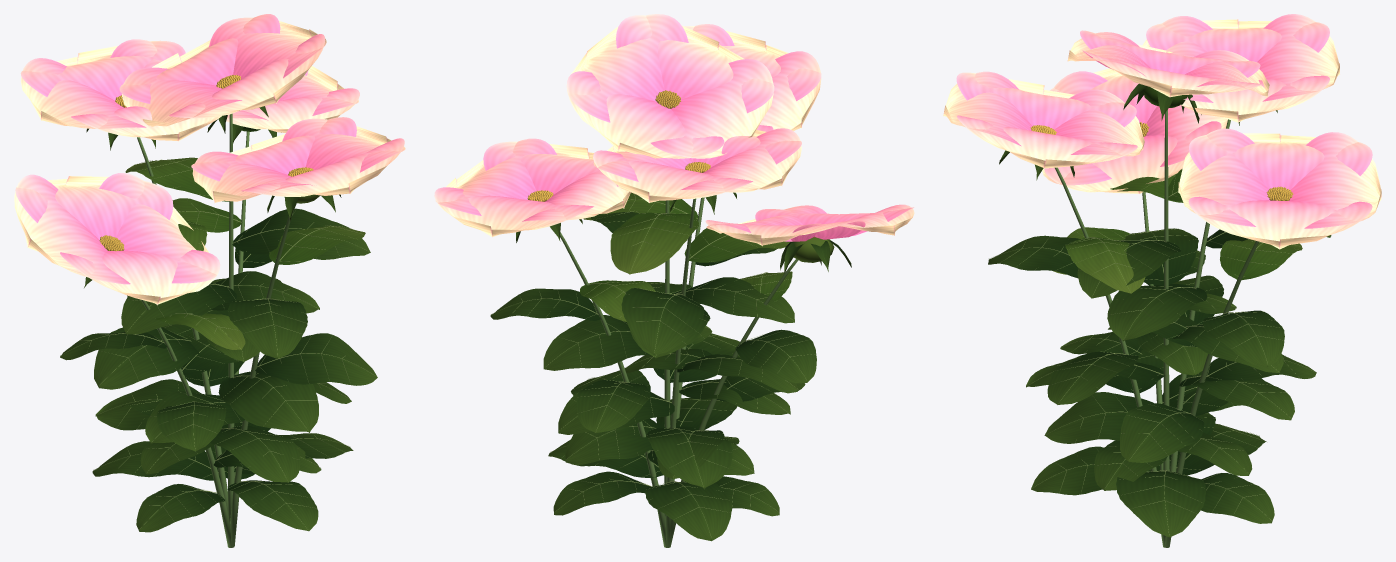
Rendered from poppy-dream-10.glb.
3 views of the same model, side by side, from view 1: azimuth 30°, elevation 25°; view 2: azimuth 150°, elevation 25°; view 3: azimuth 270°, elevation 25° (orthographic). The views are drawn at different scales.
Parts seen in each view (by area): view 1: poppy_dream_stage_10_poppy_petal.020, poppy_dream_stage_10_leaf_veins.020, poppy_dream_stage_10_young_leaf.020, poppy_dream_stage_10_stem_fibres.020, poppy_dream_stage_10_raised_midveins.020, poppy_dream_stage_10_pollen_granules.020; view 2: poppy_dream_stage_10_poppy_petal.020, poppy_dream_stage_10_leaf_veins.020, poppy_dream_stage_10_young_leaf.020, poppy_dream_stage_10_stem_fibres.020, poppy_dream_stage_10_raised_midveins.020, poppy_dream_stage_10_pollen_granules.020; view 3: poppy_dream_stage_10_poppy_petal.020, poppy_dream_stage_10_leaf_veins.020, poppy_dream_stage_10_young_leaf.020, poppy_dream_stage_10_stem_fibres.020, poppy_dream_stage_10_raised_midveins.020, poppy_dream_stage_10_pollen_granules.020.
Boxes of the visible parts, x1,y1,x2,y2 form: poppy_dream_stage_10_poppy_petal.020: (14, 14, 405, 305); poppy_dream_stage_10_leaf_veins.020: (60, 106, 377, 532); poppy_dream_stage_10_young_leaf.020: (125, 126, 365, 349); poppy_dream_stage_10_stem_fibres.020: (137, 113, 294, 547); poppy_dream_stage_10_raised_midveins.020: (60, 158, 376, 530); poppy_dream_stage_10_pollen_granules.020: (99, 74, 313, 251); poppy_dream_stage_10_poppy_petal.020: (434, 14, 914, 246); poppy_dream_stage_10_leaf_veins.020: (490, 192, 851, 541); poppy_dream_stage_10_young_leaf.020: (580, 192, 834, 321); poppy_dream_stage_10_stem_fibres.020: (560, 197, 798, 547); poppy_dream_stage_10_raised_midveins.020: (491, 194, 815, 537); poppy_dream_stage_10_pollen_granules.020: (527, 90, 710, 201); poppy_dream_stage_10_poppy_petal.020: (943, 14, 1381, 249); poppy_dream_stage_10_leaf_veins.020: (988, 83, 1331, 537); poppy_dream_stage_10_young_leaf.020: (1052, 85, 1302, 293); poppy_dream_stage_10_stem_fibres.020: (1055, 109, 1258, 547); poppy_dream_stage_10_raised_midveins.020: (989, 175, 1316, 535); poppy_dream_stage_10_pollen_granules.020: (1030, 122, 1293, 200).
Bounding box in the file's own units: 0.5 × 0.6411 × 0.4921.
Materials: 7 (3 with a texture image).
